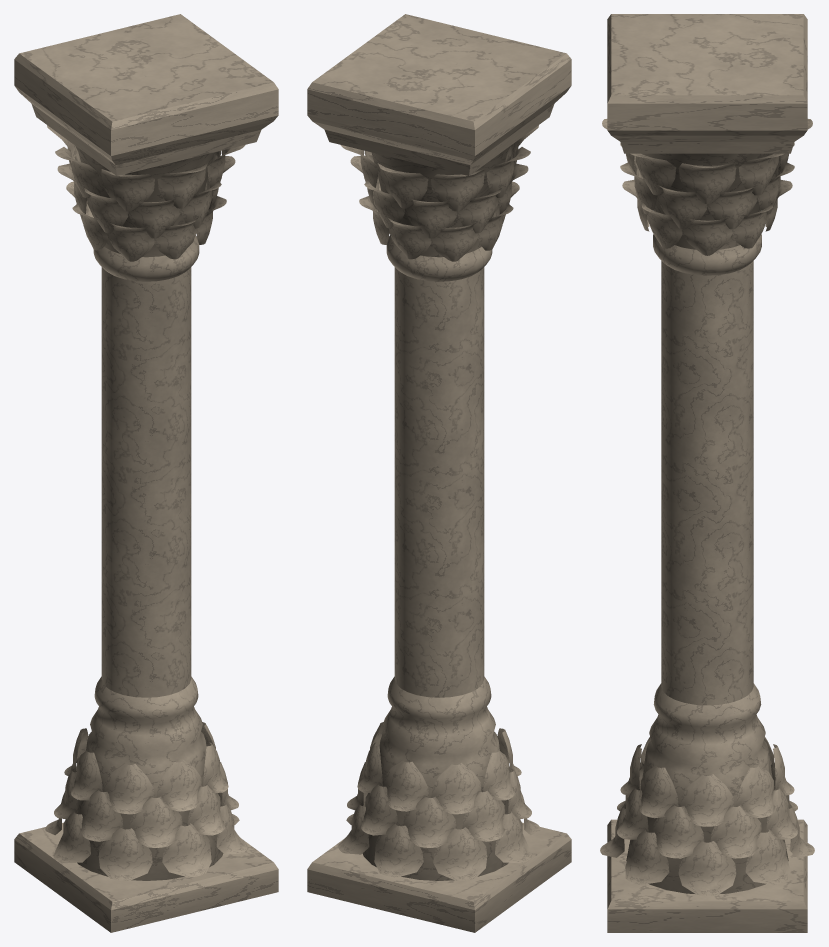
File: mm6_deco_corinth.glb
3 renders of one model, left to right at view 1: azimuth 30°, elevation 25°; view 2: azimuth 150°, elevation 25°; view 3: azimuth 270°, elevation 25°, orthographic. The views are drawn at different scales.
Parts seen in each view (by area): view 1: Corinth; view 2: Corinth; view 3: Corinth.
Part boxes in pixels (x1,y1,x2,y2): Corinth: (14, 14, 278, 932); Corinth: (307, 14, 571, 932); Corinth: (600, 14, 814, 932).
Bounding box in the file's own units: 1.28 × 5.49 × 1.28.
Materials: 2 (2 with a texture image).
